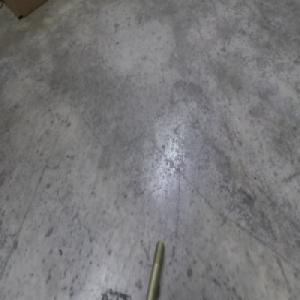Bolt: (145, 242, 164, 300)
